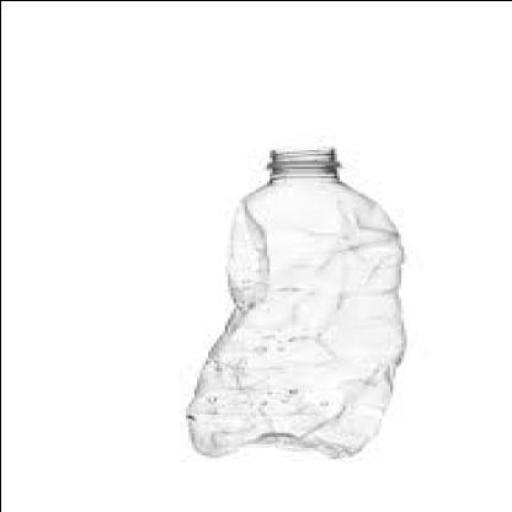plastic: (182, 145, 400, 457)
